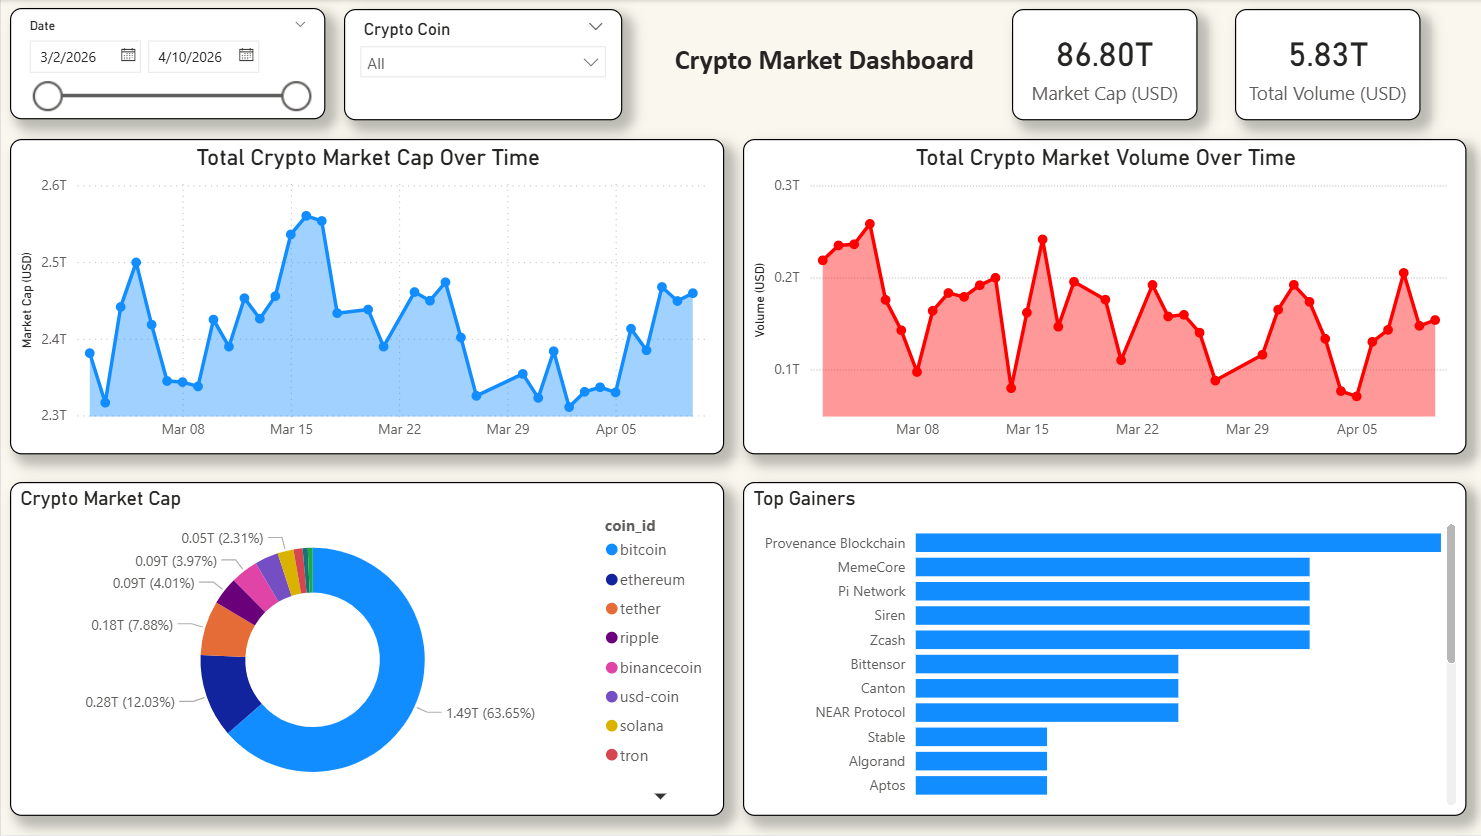

What the dashboard file says about the page in this screenshot:
{"tool":"powerbi","page":{"name":"Dashboard","canvas":[1280,720],"ordinal":0},"visuals":[{"type":"slicer","fields":{"Values":["public dim_coin.name"]},"box":[296,8,240,96],"z":0},{"type":"slicer","fields":{"Values":["public dim_date.date_key"]},"box":[8,7,272,96],"z":1000},{"type":"areaChart","title":"Total Crypto Market Cap Over Time","fields":{"Category":["public fact_crypto.date_key"],"Y":["Sum(public fact_crypto.market_cap)"]},"box":[8,120,616,272],"z":2000},{"type":"areaChart","title":"Total Crypto Market Volume Over Time","fields":{"Category":["public fact_crypto.date_key"],"Y":["Sum(public fact_crypto.total_volume)"]},"box":[640,120,624,272],"z":3000},{"type":"card","fields":{"Values":["Sum(public fact_crypto.market_cap)"]},"box":[872,8,160,96],"z":4000},{"type":"card","fields":{"Values":["Sum(public fact_crypto.total_volume)"]},"box":[1064,8,160,96],"z":5000},{"type":"textbox","box":[576,32,272,48],"z":6000},{"type":"donutChart","title":"Crypto Market Cap","fields":{"Y":["Max(market_cap_trends.market_cap)"],"Category":["market_cap_trends.coin_id"]},"box":[8,416,616,288],"z":7000},{"type":"barChart","title":"Top Gainers","fields":{"Category":["public crypto_daily_summary.top_gainer"],"Y":["CountNonNull(public crypto_daily_summary.top_gainer)"]},"box":[640,416,624,288],"z":8000}]}

Visuals, with their boxes in screenshot pixels (x1, y1, x2, y2), scaled from the page's 1280x720 canvas onto the 1481x836 screenshot:
slicer - public dim_coin.name: bbox=(342, 9, 620, 121)
slicer - public dim_date.date_key: bbox=(9, 8, 324, 120)
"Total Crypto Market Cap Over Time" areaChart: bbox=(9, 139, 722, 455)
"Total Crypto Market Volume Over Time" areaChart: bbox=(740, 139, 1462, 455)
card - Sum(public fact_crypto.market_cap): bbox=(1009, 9, 1194, 121)
card - Sum(public fact_crypto.total_volume): bbox=(1231, 9, 1416, 121)
textbox: bbox=(666, 37, 981, 93)
"Crypto Market Cap" donutChart: bbox=(9, 483, 722, 817)
"Top Gainers" barChart: bbox=(740, 483, 1462, 817)
